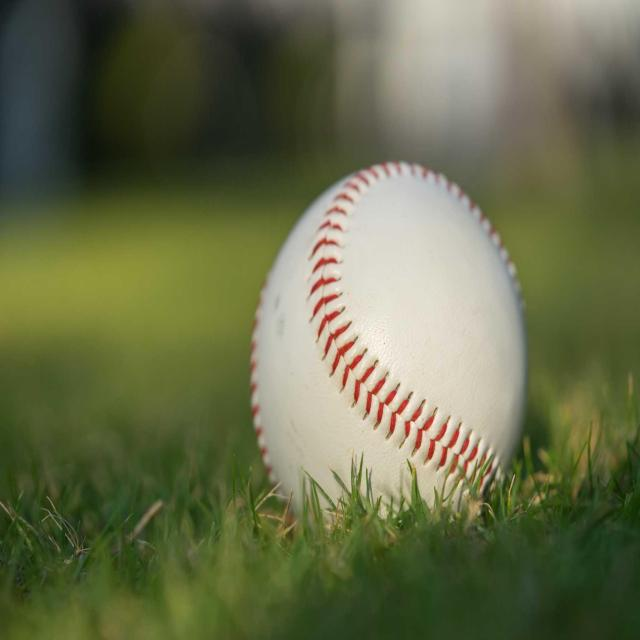baseball: (250, 158, 528, 528)
